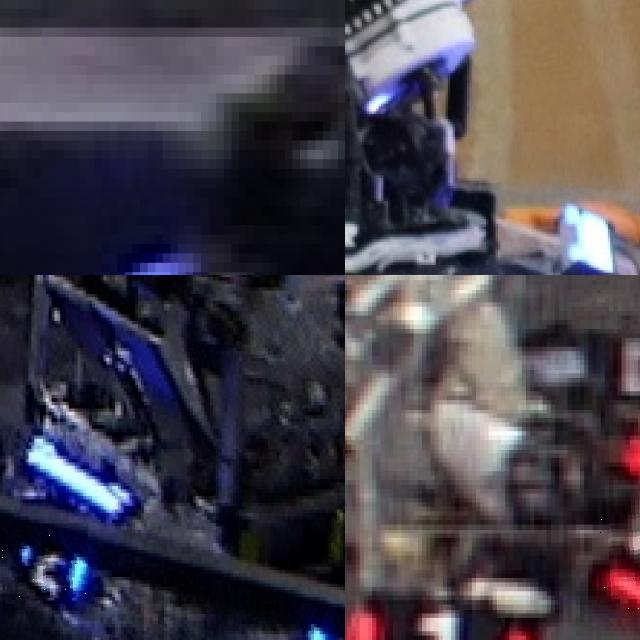B2: (1, 523, 88, 600)
R1: (345, 587, 546, 640), (592, 489, 640, 618)
